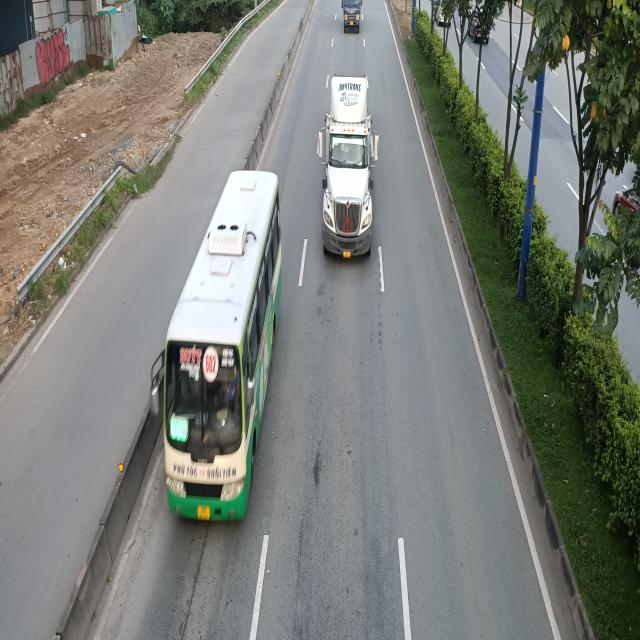coach: (153, 166, 285, 519)
container: (319, 73, 378, 257)
